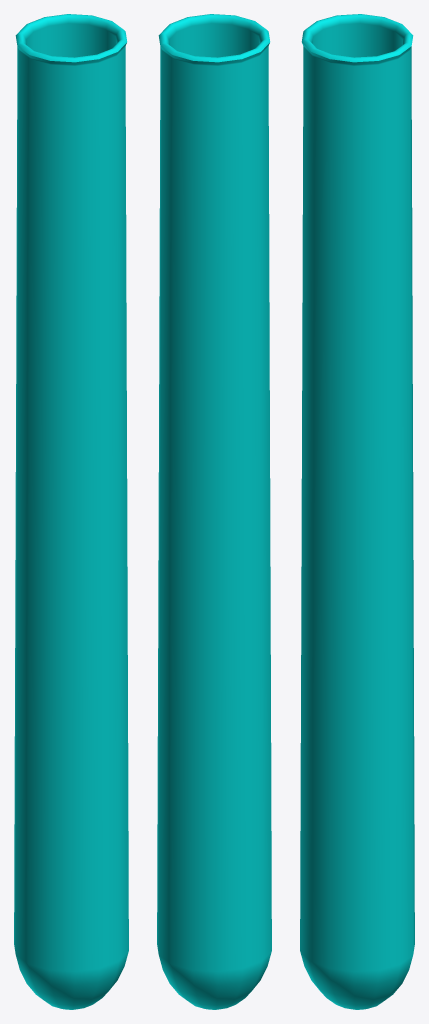
The picture shows the model from 3 angles, left to right: view 1: azimuth 30°, elevation 25°; view 2: azimuth 210°, elevation 25°; view 3: azimuth 330°, elevation 25°; orthographic projection.
Visible parts, largest first — view 1: Test_tube2; view 2: Test_tube2; view 3: Test_tube2.
Boxes of the visible parts, box(x1,y1,x2,y2) form: Test_tube2: box(14, 14, 128, 1009); Test_tube2: box(157, 14, 271, 1009); Test_tube2: box(300, 14, 414, 1009).
Size of what is drawn, in the model's own units: 1.6 by 15 by 1.6.
